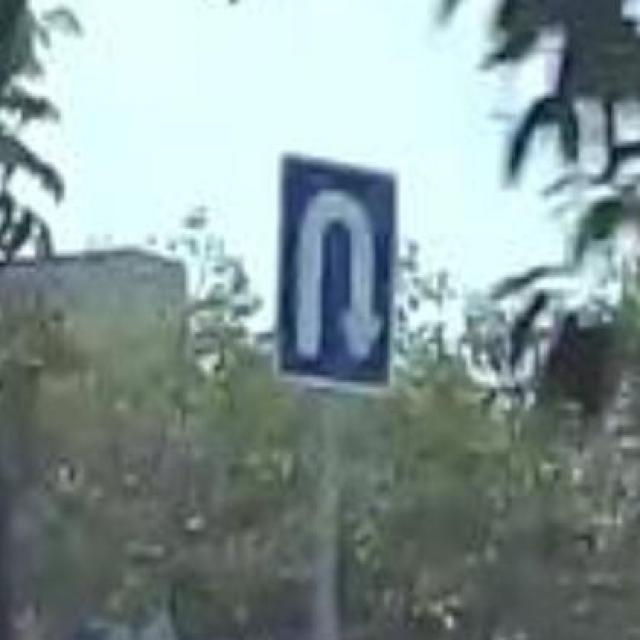traffic sign: (279, 151, 395, 394)
